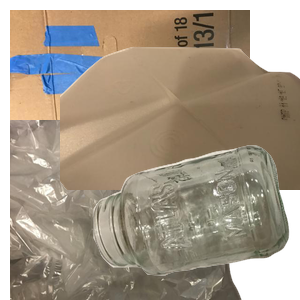cardboard: (10, 10, 250, 190)
glass: (91, 143, 300, 300)
plastic: (60, 44, 300, 224)
trash: (10, 120, 244, 300)
